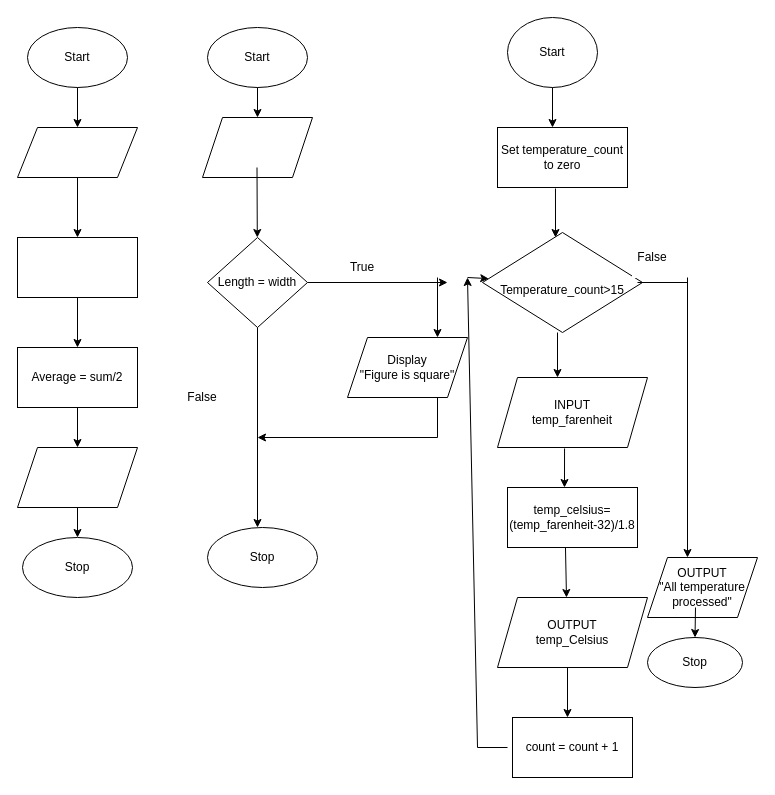
Some shapes in this 775 by 795 pixel diagram are drawn without their labels. Here are the shapes that lost their labels. From the top down, the box of each, then its label:
(16, 126, 138, 178): Get num_1 Get num_2
(202, 116, 312, 178): Input length Input width
(16, 236, 138, 298): Sum = num_1 + num_2
(16, 446, 138, 508): Display = sum, average
